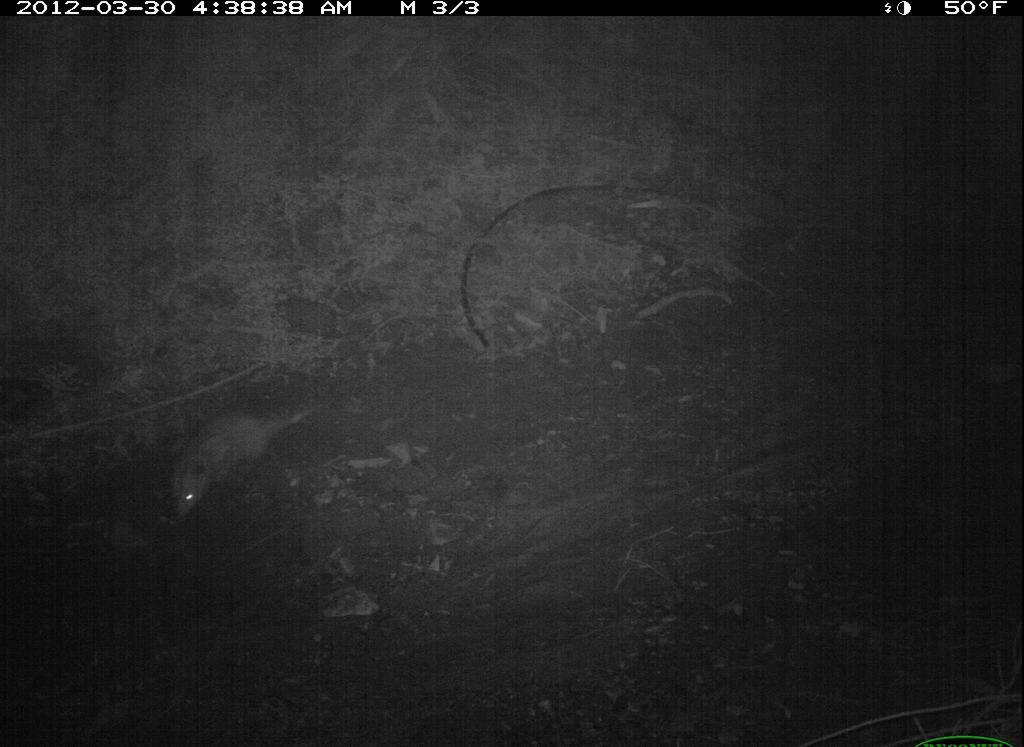opossum: (167, 396, 326, 523)
